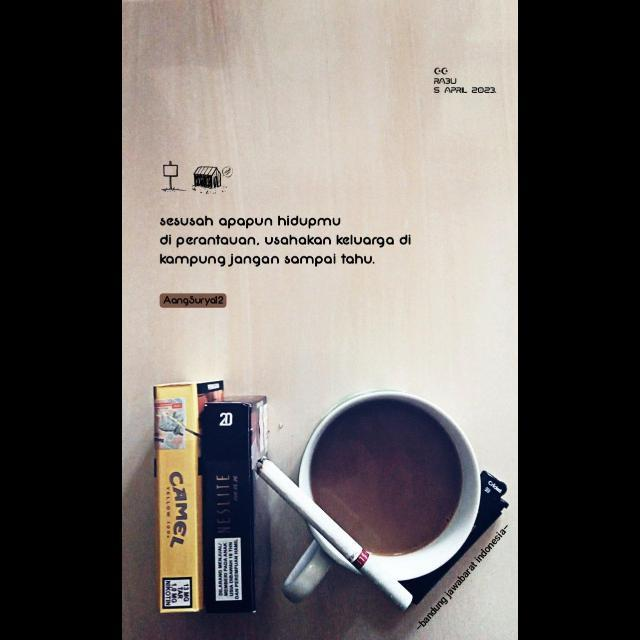rokok: (252, 450, 416, 618)
